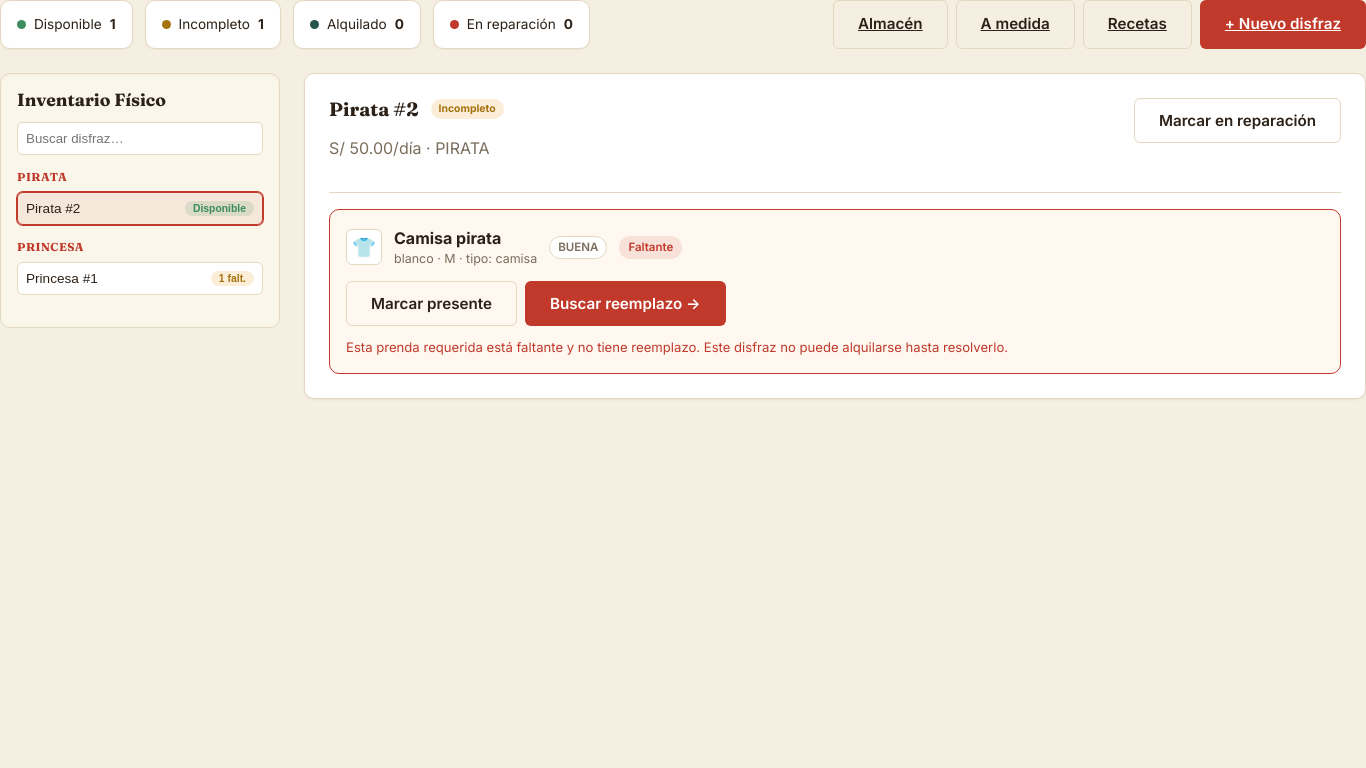
Test case: Pruebas funcionales - Inventario físico › PF-FE-51: una prenda faltante muestra la advertencia y permite buscar reemplazo
Expected: the text "Esta prenda requerida está faltante" is shown, [346,339,1008,355]
What coordinates should you click on to do the following:
click the button "Buscar reemplazo →"
I would click on:
 (625, 303)
Its box is [525,281,726,326].
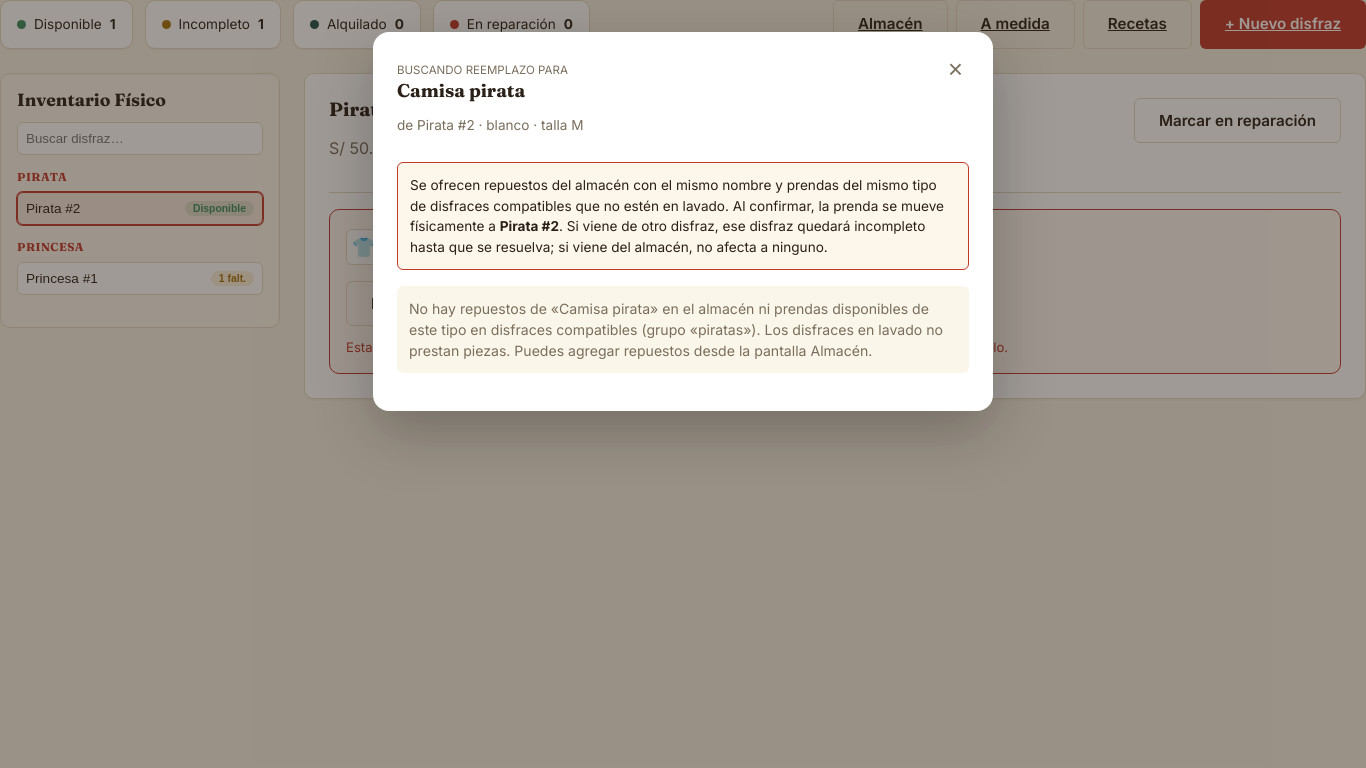
Result: the dialog is shown at [373,32,993,411]
Result: the text "No hay repuestos de «Camisa pirata»" is shown at [409,300,754,317]
